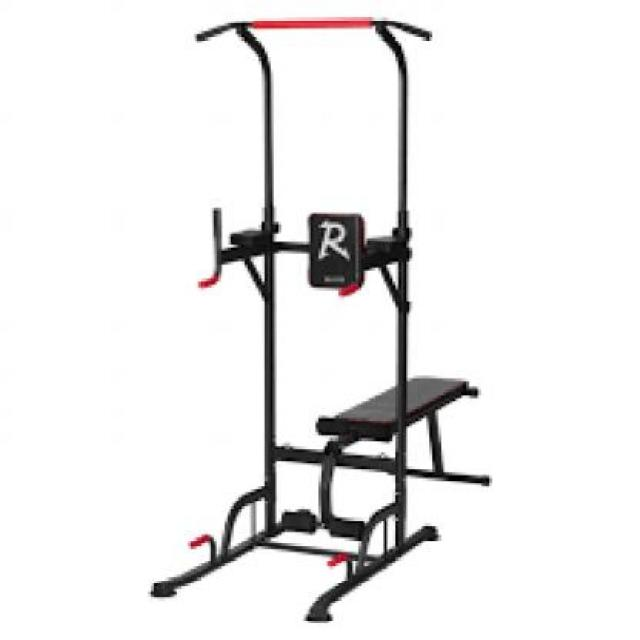chinning dipping: (146, 15, 442, 623)
